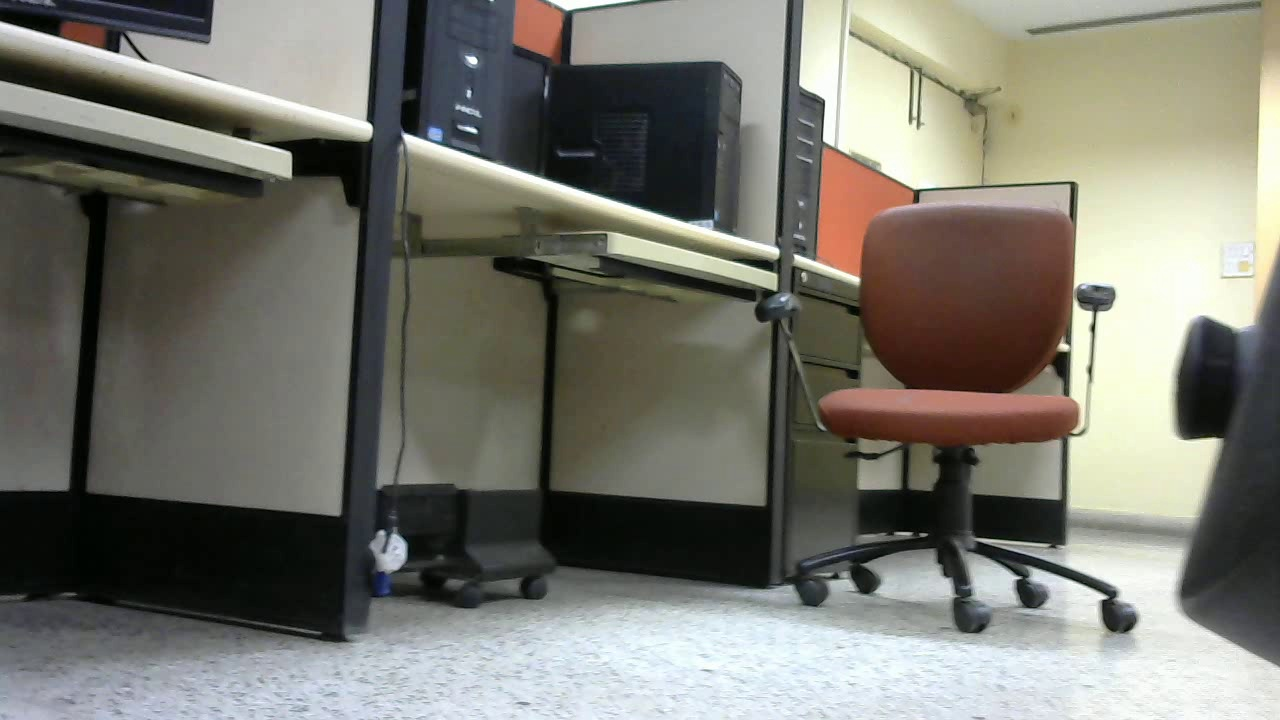chair: (498, 1, 936, 671), (1, 202, 186, 504)
